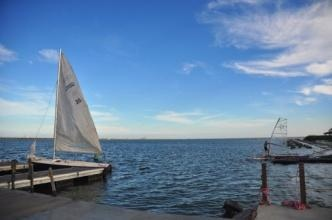fanchuan: (24, 52, 119, 167)
